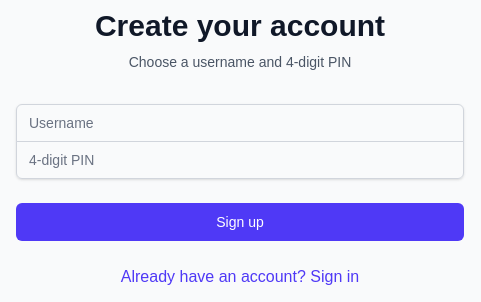
SignUpPage › should disable form during submission
The width and height of the screenshot is (481, 302).
Type "testuser" into the field with placeholder "Username" at [240, 122], box x1=16 y1=104 x2=464 y2=142
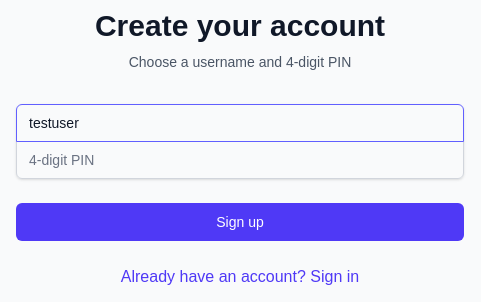
Type "1234" into the password field with placeholder "4-digit PIN" at [240, 160], box x1=16 y1=140 x2=464 y2=178
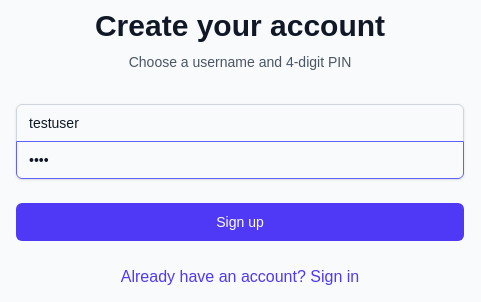
Click the button "Sign up" at [240, 222], box x1=16 y1=202 x2=464 y2=240
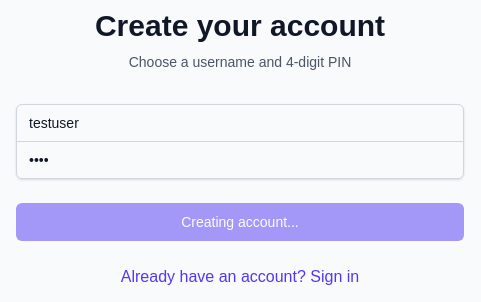
Expected: the field with placeholder "Username" is disabled, x1=16 y1=104 x2=464 y2=142
Expected: the button "Creating account..." is disabled, x1=16 y1=202 x2=464 y2=240
